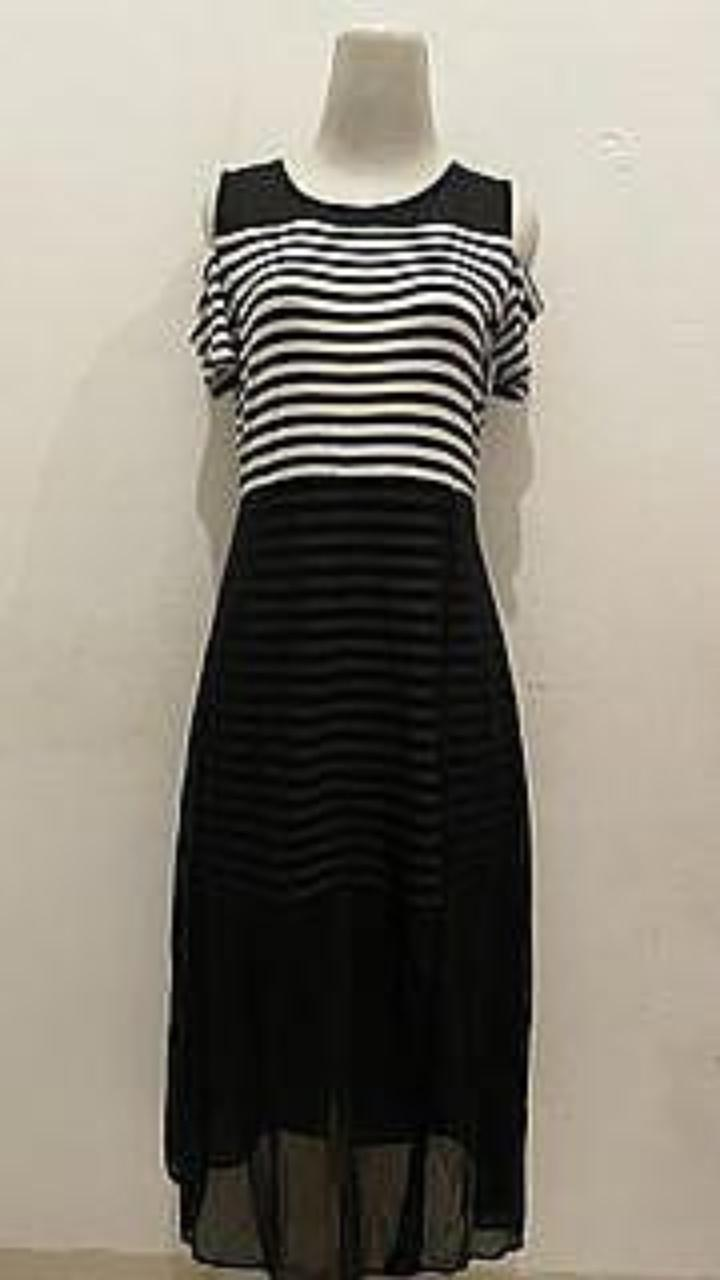Dresses: (164, 159, 543, 1279)
